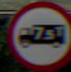Heavy Vehicles: (6, 3, 68, 59)
